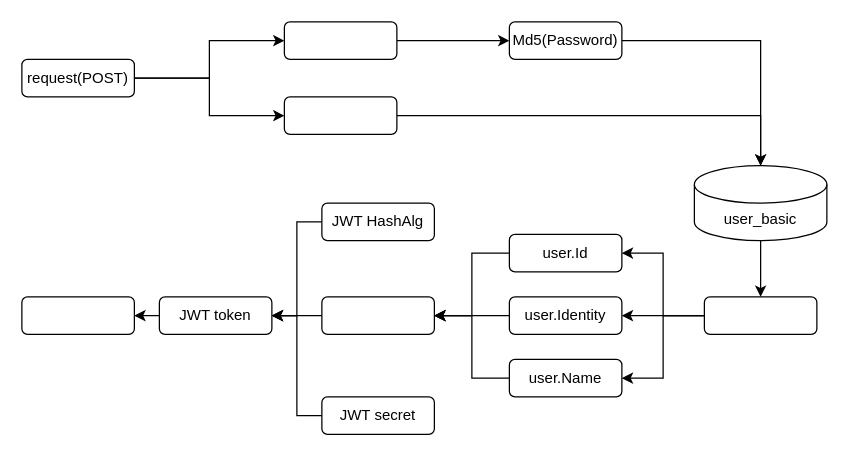
The diagram is 849 pixels wide and 456 high, and some of its shapes have lost their labels. The shapes that lost their labels are listed below. From the top down, each one's centre as x and y in pixels, then its label:
At [340,40]: "Password".
At [340,115]: "UserName".
At [77,315]: "response".
At [377,315]: "JWT payload".
At [760,315]: "user".
